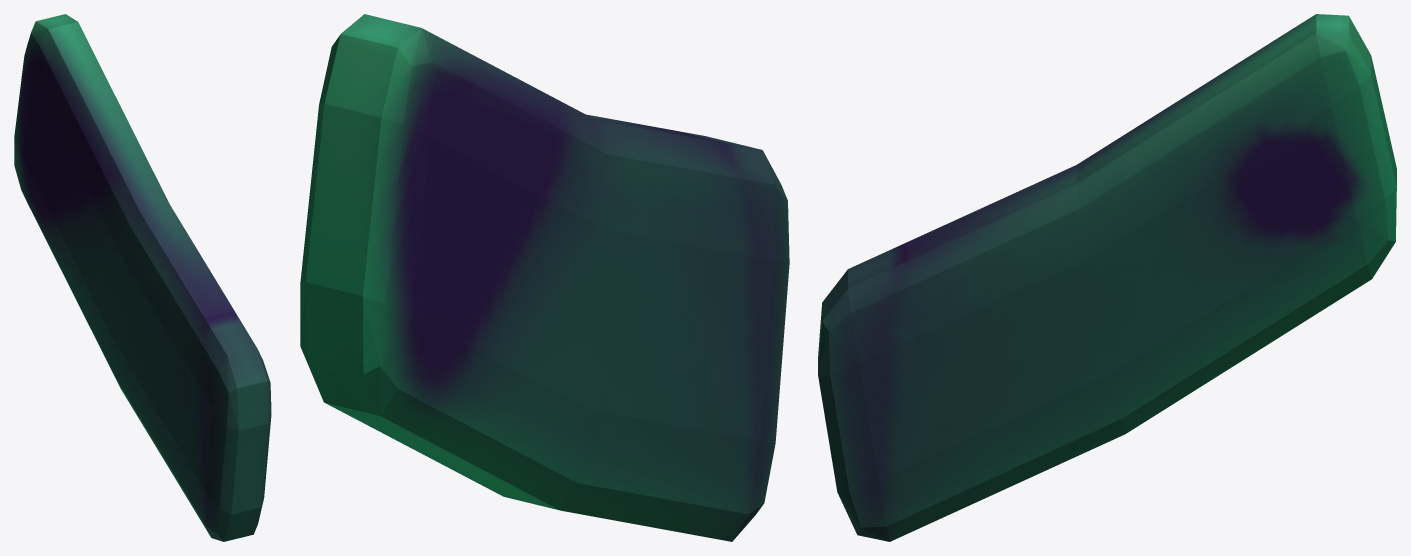
3 views of the same model, side by side, from view 1: azimuth 30°, elevation 25°; view 2: azimuth 150°, elevation 25°; view 3: azimuth 270°, elevation 25° (orthographic). The views are drawn at different scales.
Size of the model in its own units: 0.0241 by 0.1773 by 0.1828.
Materials: 1 (1 with a texture image).
